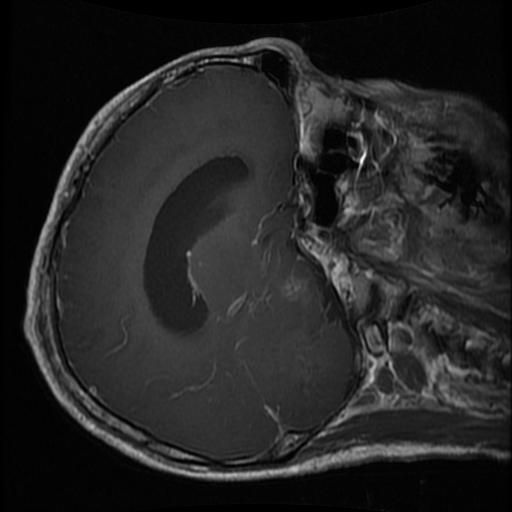glioma: (275, 273, 308, 303)
